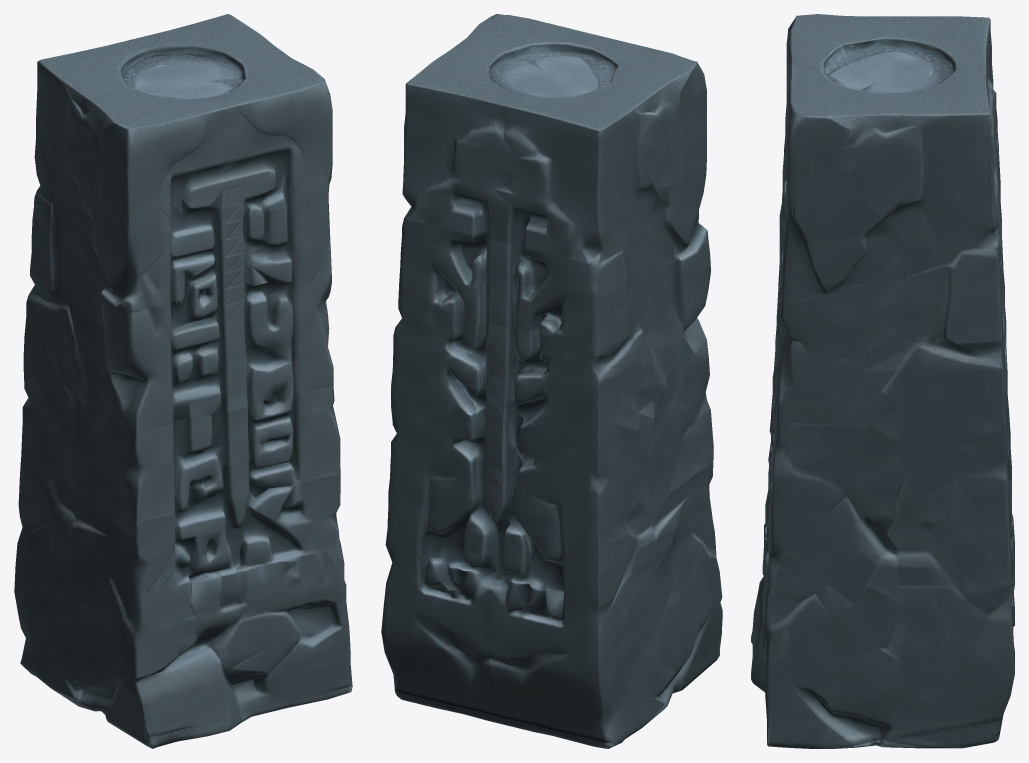
The model's file is rune-stone.opt.glb.
3 renders of one model, left to right at view 1: azimuth 30°, elevation 25°; view 2: azimuth 150°, elevation 25°; view 3: azimuth 270°, elevation 25°, orthographic. The views are drawn at different scales.
Bounding box in the file's own units: 0.7396 × 1.9 × 0.7241.
1 material, 1 textured.
